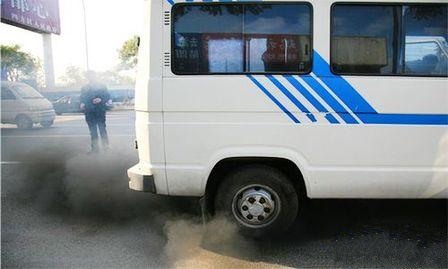smoke: (16, 148, 126, 233)
